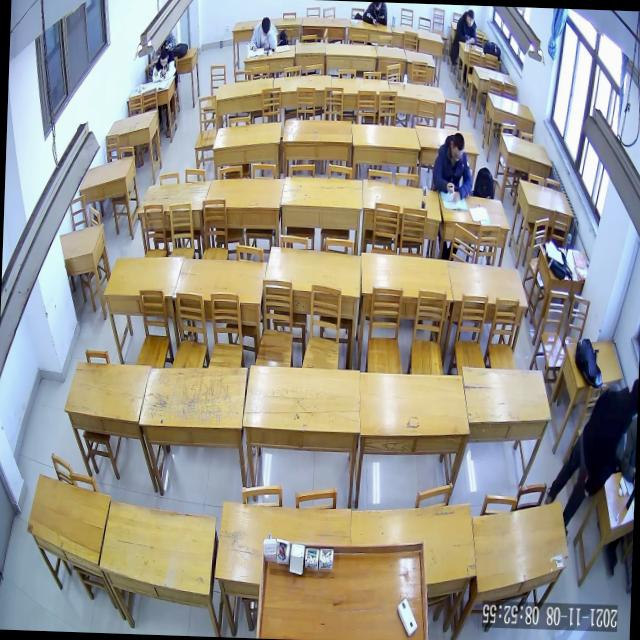bow: (151, 48, 179, 84)
down: (450, 132, 464, 161), (260, 16, 270, 36), (158, 48, 168, 67), (466, 9, 474, 27)
sit: (432, 132, 474, 202), (249, 15, 278, 50), (455, 8, 478, 45)
